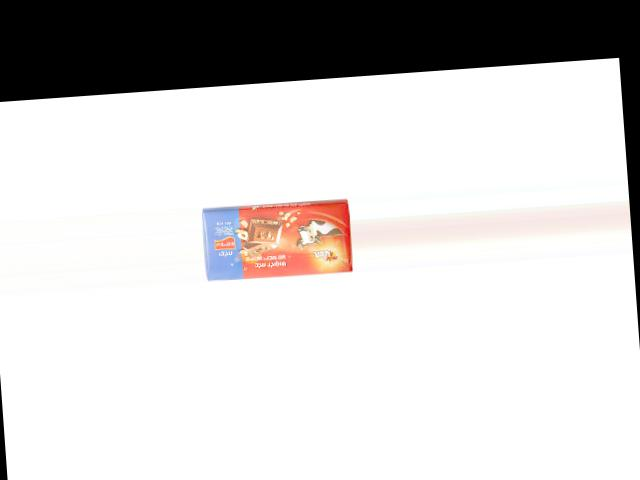chocolate: (202, 192, 353, 280)
